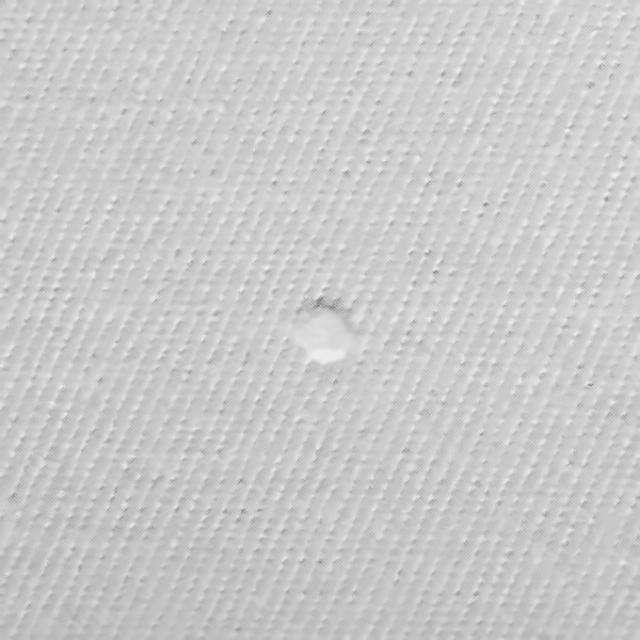seam: (265, 256, 375, 392)
